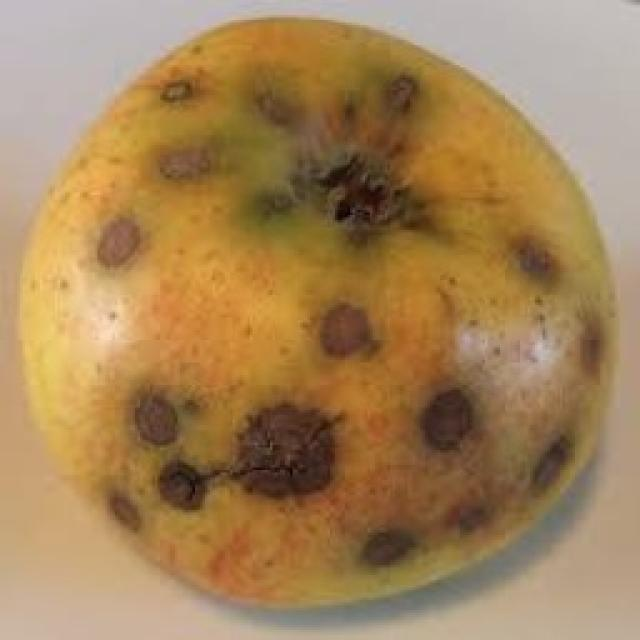defective: (15, 12, 620, 610)
